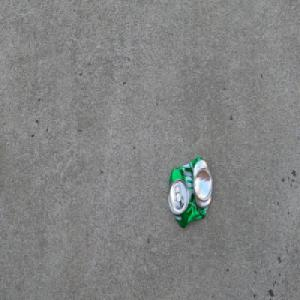SodaCan: (166, 155, 212, 229)
